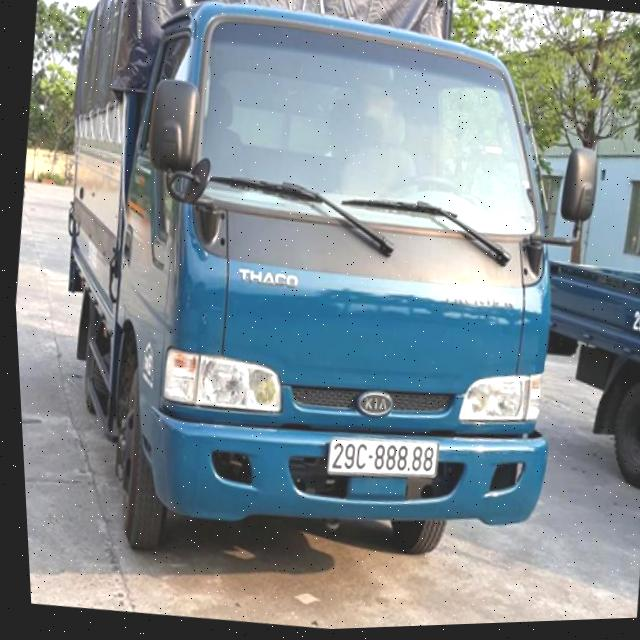car: (7, 0, 616, 598)
plate: (319, 423, 448, 491), (624, 302, 640, 344)
